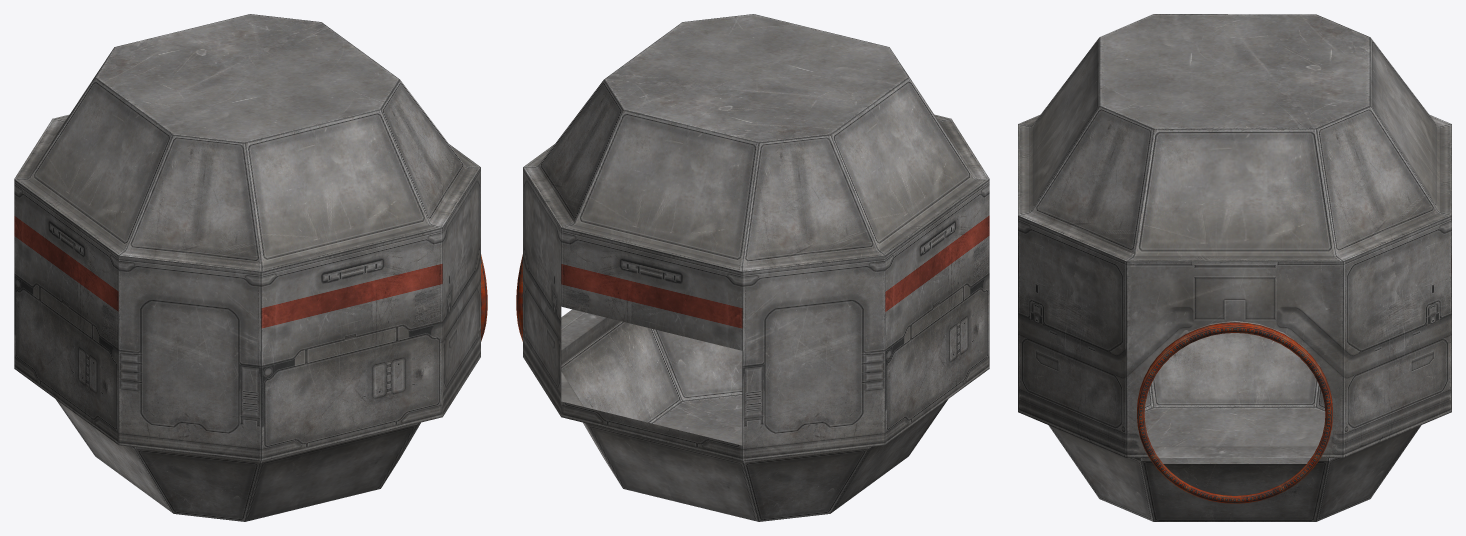
File: tau_8sided_room_chemlab_1door.dae
3 renders of one model, left to right at view 1: azimuth 30°, elevation 25°; view 2: azimuth 150°, elevation 25°; view 3: azimuth 270°, elevation 25°, orthographic. The views are drawn at different scales.
Visible parts, largest first — view 1: room; view 2: room; view 3: room, ring.
Part boxes in pixels (x1,y1,x2,y2): room: (14,14,480,521); room: (523,14,989,521); room: (1018,14,1451,521); ring: (1137,322,1332,503).
Bounding box in the file's own units: 12.39 × 12 × 12.
